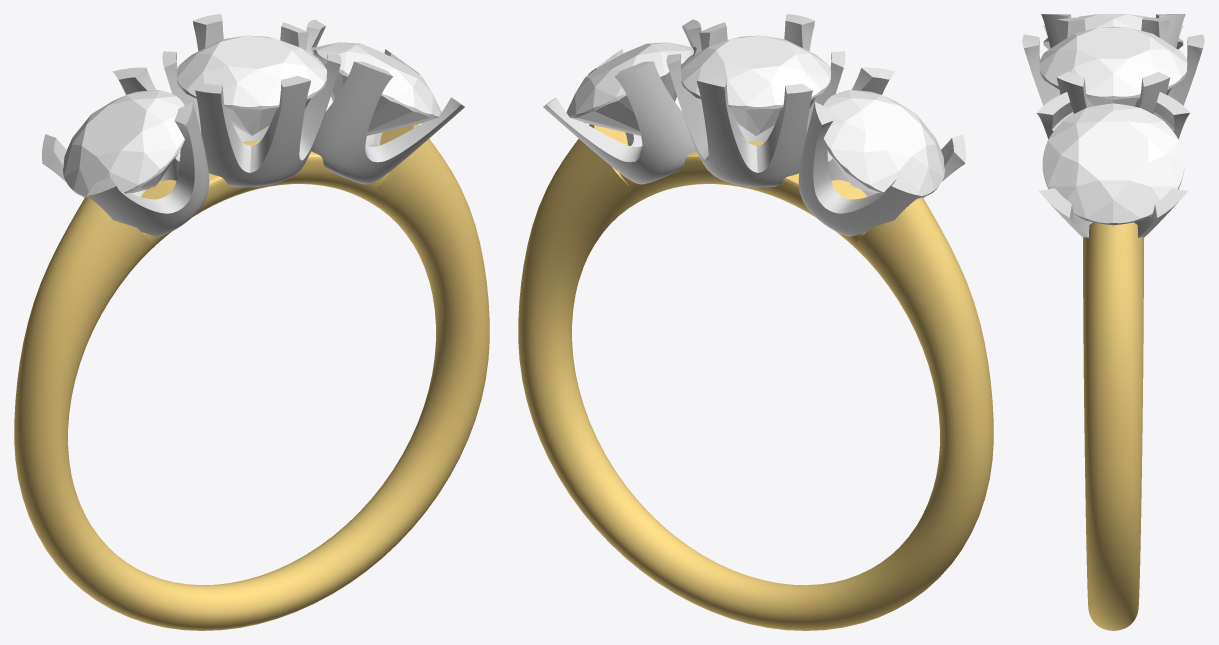
File: irvingSheldonYG_webgi (1).glb
3 renders of one model, left to right at view 1: azimuth 30°, elevation 25°; view 2: azimuth 150°, elevation 25°; view 3: azimuth 270°, elevation 25°, orthographic.
Visible parts, largest first — view 1: version_3_irving_YG, version_3_irving_PT, version_3_irving_aqua, version_3_irving_dia, version_3_irving_sapphire; view 2: version_3_irving_YG, version_3_irving_PT, version_3_irving_aqua, version_3_irving_dia, version_3_irving_sapphire; view 3: version_3_irving_YG, version_3_irving_sapphire, version_3_irving_PT, version_3_irving_dia, version_3_irving_aqua.
Part boxes in pixels (bbox=[...]): version_3_irving_YG: bbox=[14, 124, 489, 630]; version_3_irving_PT: bbox=[42, 14, 464, 236]; version_3_irving_aqua: bbox=[63, 90, 184, 198]; version_3_irving_dia: bbox=[177, 35, 326, 135]; version_3_irving_sapphire: bbox=[314, 42, 441, 135]; version_3_irving_YG: bbox=[518, 124, 993, 630]; version_3_irving_PT: bbox=[543, 14, 965, 236]; version_3_irving_aqua: bbox=[823, 90, 944, 198]; version_3_irving_dia: bbox=[681, 35, 830, 135]; version_3_irving_sapphire: bbox=[566, 42, 693, 135]; version_3_irving_YG: bbox=[1083, 222, 1143, 630]; version_3_irving_sapphire: bbox=[1042, 103, 1184, 225]; version_3_irving_PT: bbox=[1022, 14, 1204, 237]; version_3_irving_dia: bbox=[1039, 26, 1187, 106]; version_3_irving_aqua: bbox=[1043, 14, 1183, 49].
Size of the model in its own units: 2.54 by 2.97 by 0.8692.
